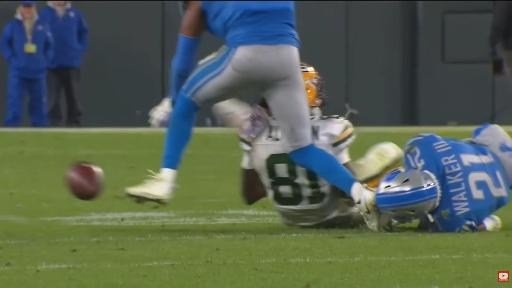Helmet: (376, 168, 441, 216), (300, 63, 326, 107), (178, 1, 187, 15)
Jersey: (249, 119, 351, 226), (404, 134, 509, 231), (202, 1, 299, 47)
Player: (126, 2, 379, 222), (241, 102, 364, 227), (376, 124, 511, 231)
